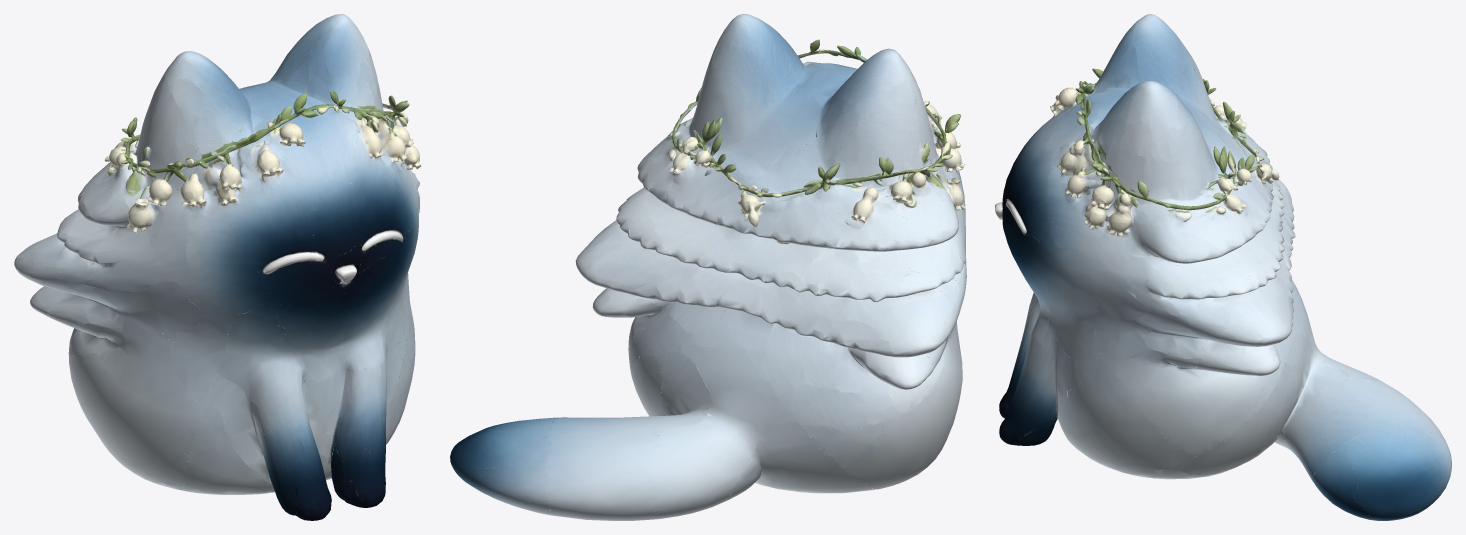
File: lily-garland-D62EAKjQ.glb
The picture shows the model from 3 angles, left to right: view 1: azimuth 30°, elevation 25°; view 2: azimuth 150°, elevation 25°; view 3: azimuth 270°, elevation 25°; orthographic projection. The views are drawn at different scales.
Parts seen in each view (by area): view 1: worn-lily-garland; view 2: worn-lily-garland; view 3: worn-lily-garland.
Part boxes in pixels (x1=…): worn-lily-garland: x1=14, y1=14, x2=421, y2=520; worn-lily-garland: x1=450, y1=14, x2=966, y2=520; worn-lily-garland: x1=995, y1=14, x2=1451, y2=520.
Bounding box in the file's own units: 1.87 × 1.75 × 1.9.
Materials: 1 (1 with a texture image).
